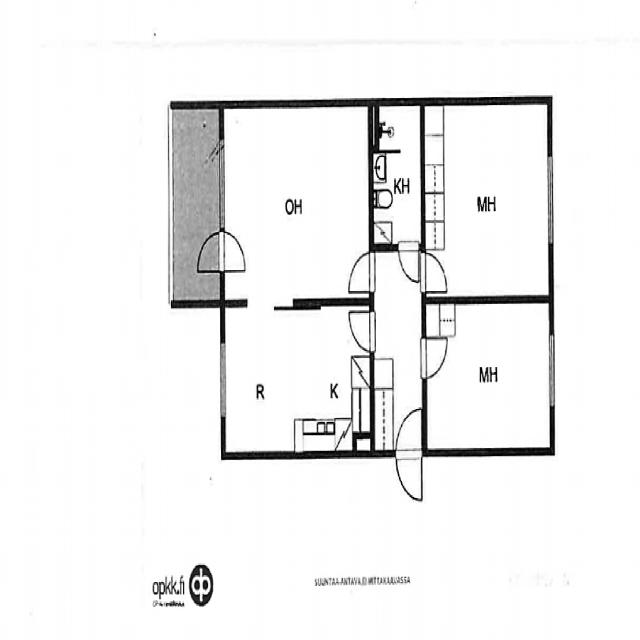door: (420, 339, 449, 380), (396, 410, 420, 459), (396, 451, 420, 500), (421, 252, 448, 292), (220, 232, 247, 270), (347, 254, 374, 292), (198, 232, 224, 270), (398, 244, 418, 287)
